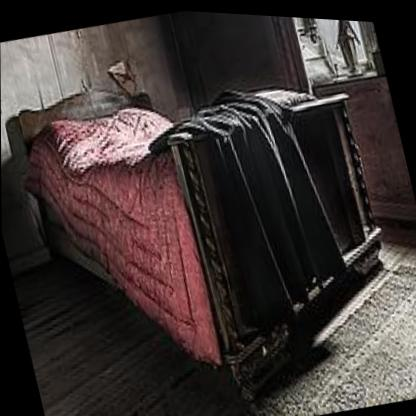Bed: (0, 26, 416, 416)
